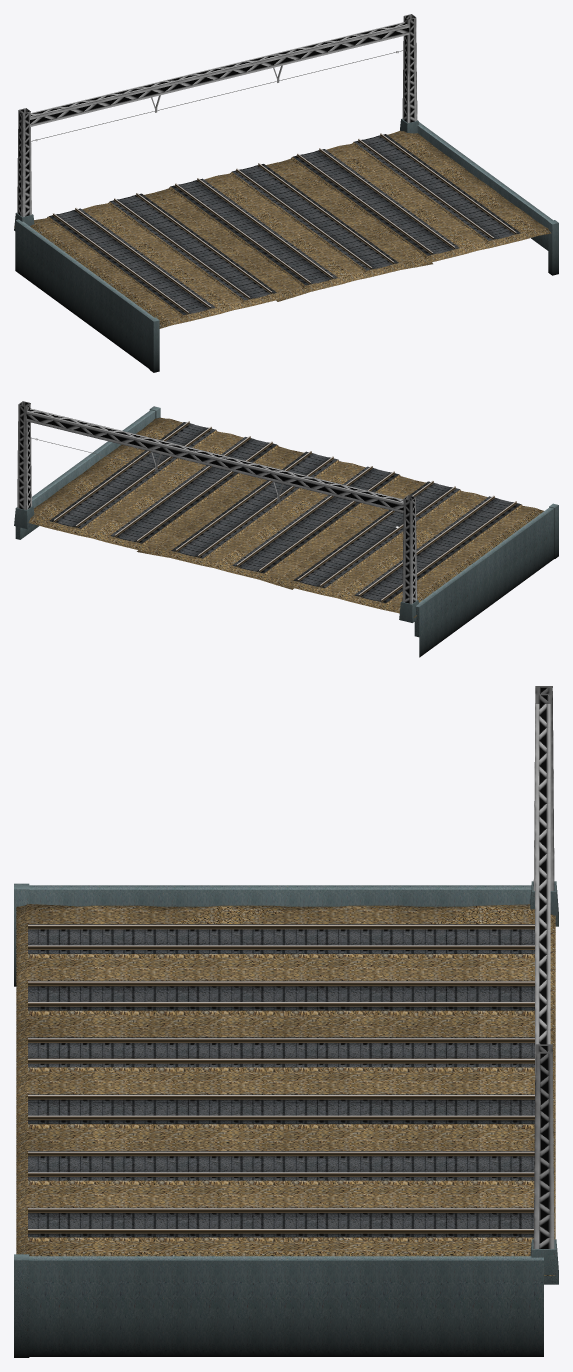
The model's file is 6RAIL_KOUBE.glb.
3 views of the same model, one above another, from view 1: azimuth 30°, elevation 25°; view 2: azimuth 150°, elevation 25°; view 3: azimuth 270°, elevation 25° (orthographic). The views are drawn at different scales.
Parts seen in each view (by area): view 1: obj6, kasenchu, obj3; view 2: obj6, kasenchu, obj3; view 3: obj6, kasenchu, obj3.
Part boxes in pixels (<box>): obj6: <box>14,122,552,368</box>; kasenchu: <box>14,14,418,230</box>; obj3: <box>149,220,558,372</box>; obj6: <box>15,410,554,657</box>; kasenchu: <box>14,401,418,622</box>; obj3: <box>149,406,558,558</box>; obj6: <box>16,885,555,1356</box>; kasenchu: <box>530,686,558,1284</box>; obj3: <box>14,883,29,1357</box>.
Bounding box in the file's own units: 86.33 × 32.15 × 52.79.
10 materials, 8 textured.
